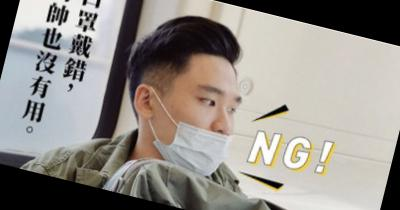mask_weared_incorrect: (148, 73, 246, 181)
